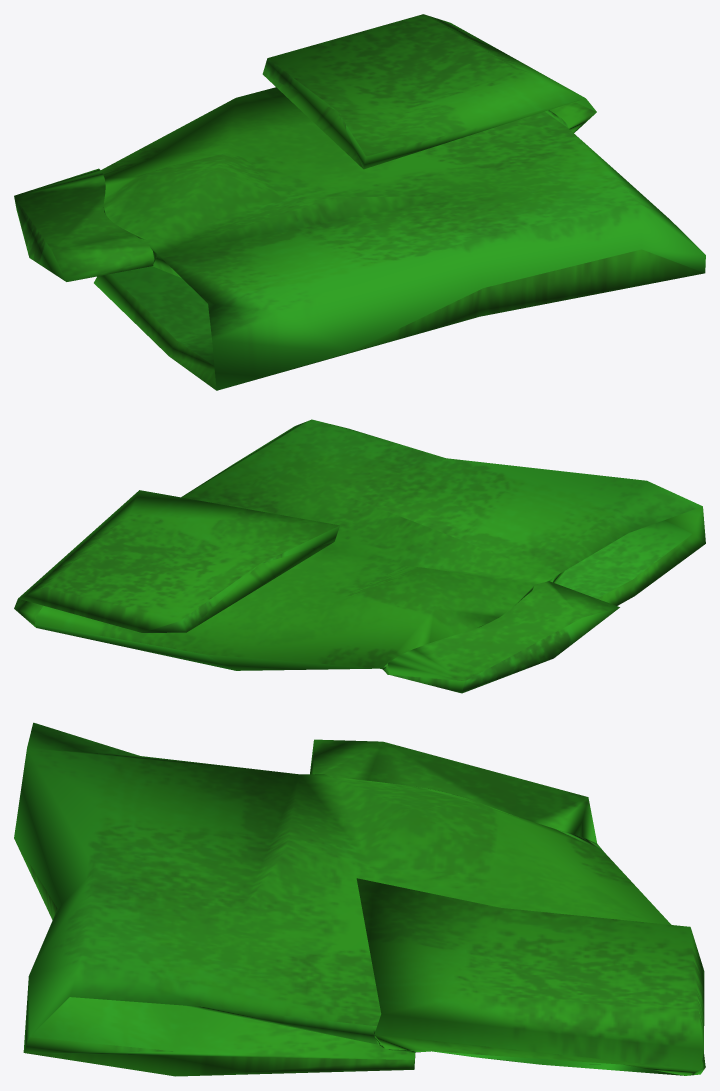
Rendered from MDL_CLGR_dirty.fbx.
The picture shows the model from 3 angles, top to bottom: view 1: azimuth 30°, elevation 25°; view 2: azimuth 150°, elevation 25°; view 3: azimuth 270°, elevation 25°; orthographic projection. The views are drawn at different scales.
Parts seen in each view (by area): view 1: MDL_CL_dirty; view 2: MDL_CL_dirty; view 3: MDL_CL_dirty.
Part boxes in pixels (x1,y1,x2,y2): MDL_CL_dirty: [14, 14, 705, 390]; MDL_CL_dirty: [14, 419, 705, 693]; MDL_CL_dirty: [14, 722, 705, 1076].
Size of the model in its own units: 87.54 by 12.01 by 81.66.
